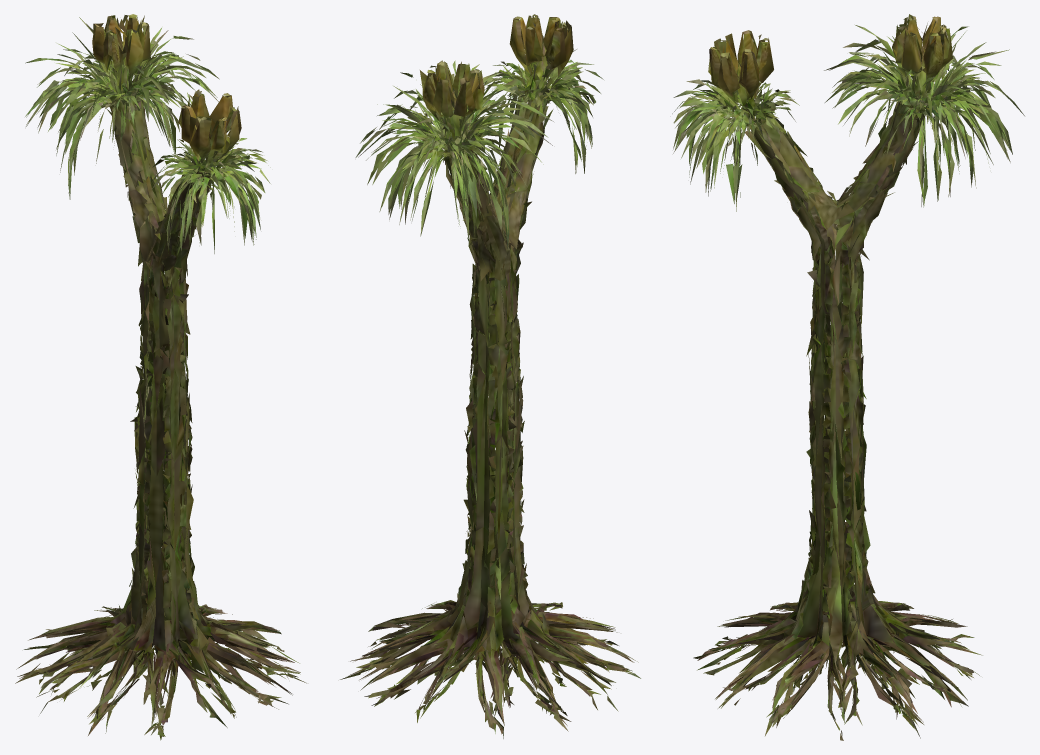
File: sigillaria.glb
3 renders of one model, left to right at view 1: azimuth 30°, elevation 25°; view 2: azimuth 150°, elevation 25°; view 3: azimuth 270°, elevation 25°, orthographic. The views are drawn at different scales.
Visible parts, largest first — view 1: Mesh_0; view 2: Mesh_0; view 3: Mesh_0.
Boxes of the visible parts, x1,y1,x2,y2 form: Mesh_0: (15, 14, 306, 740); Mesh_0: (340, 14, 640, 738); Mesh_0: (672, 14, 1024, 740).
Size of the model in its own units: 0.4081 by 0.999 by 0.4886.
1 material, 1 textured.
